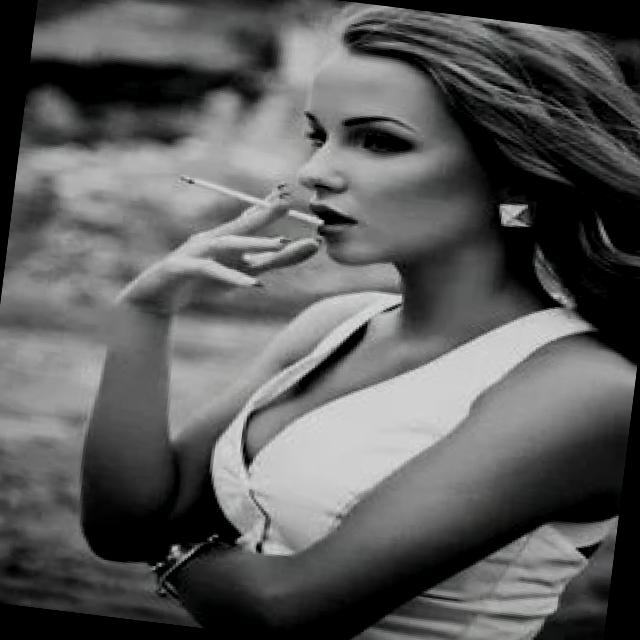smoke: (170, 170, 334, 237)
